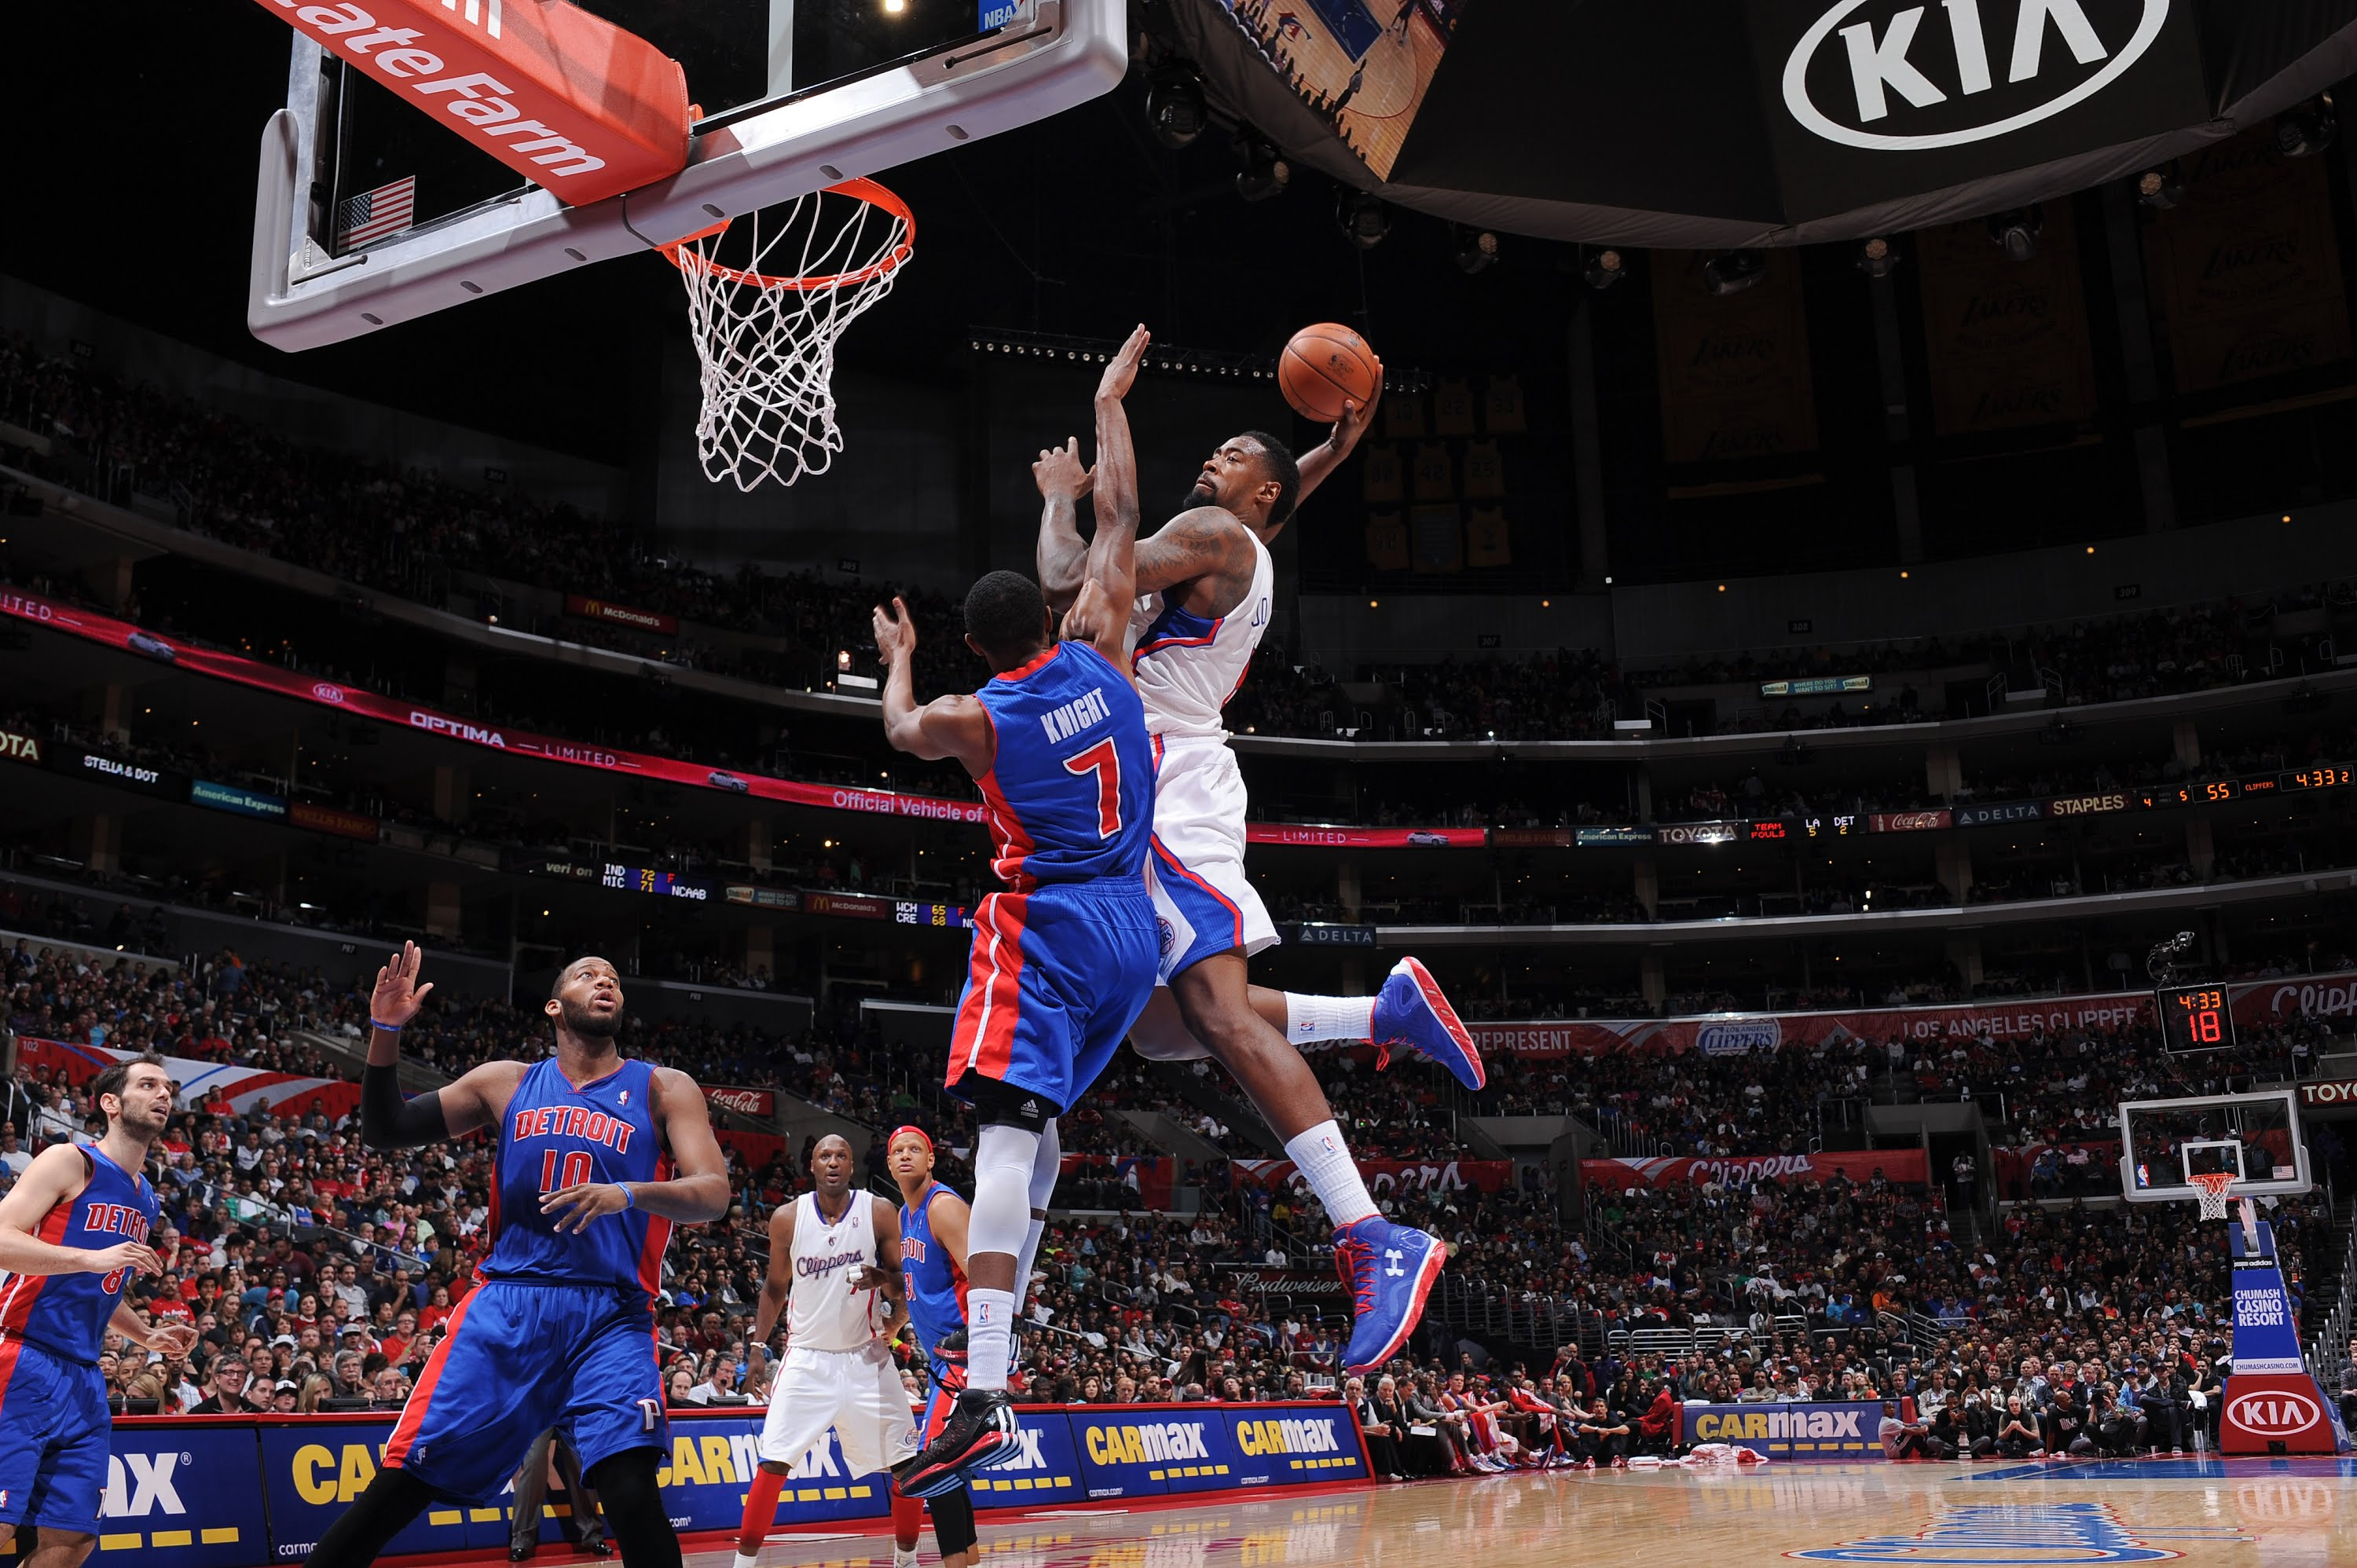basket: (654, 156, 926, 502)
block: (861, 368, 1444, 1512)
dunk: (989, 240, 1531, 1137)
